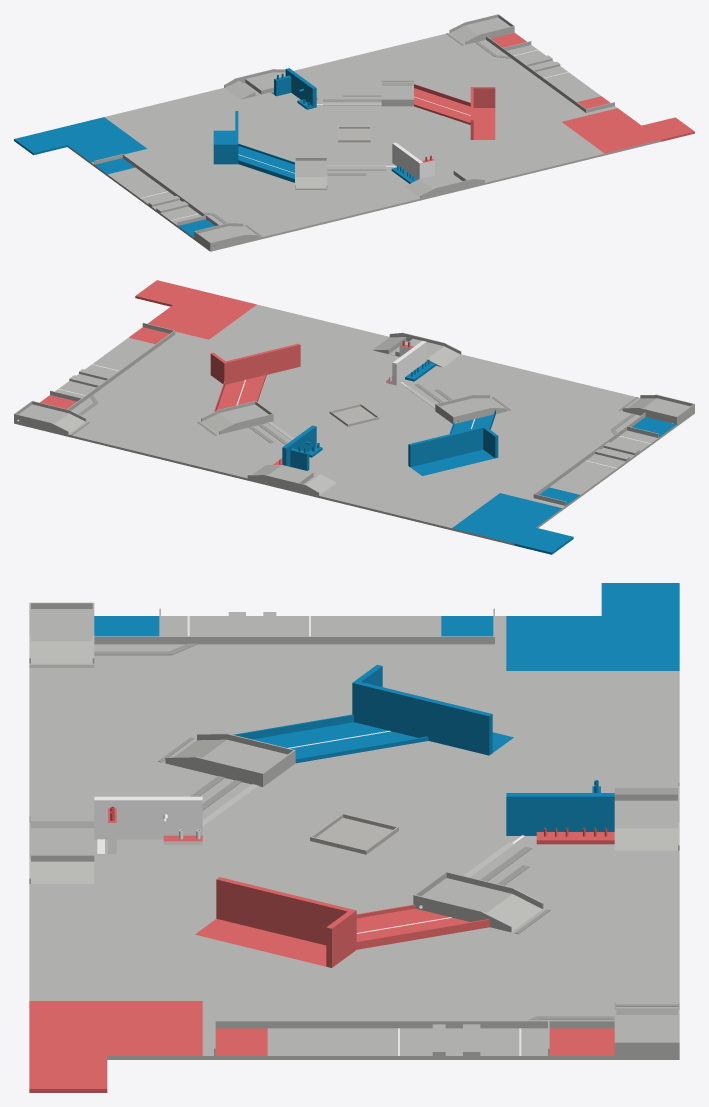
The model's file is CoRE2025_Field.dae.
3 renders of one model, top to bottom at view 1: azimuth 30°, elevation 25°; view 2: azimuth 150°, elevation 25°; view 3: azimuth 270°, elevation 25°, orthographic. The views are drawn at different scales.
Visible parts, largest first — view 1: Floor, blue_strider_area, red-strider-zone.001, Body1.053, Body1.052, Body1.009, Body1.029, Slope00, Body1.054, Body1.028, Body1.057, Slope01 (+8 smaller); view 2: Floor, blue_strider_area, red-strider-zone.001, Body1.008, Body1.052, Body1.053, Body1.009, Slope01, Body1.055, Body1.054, Body1.057, Body1.056 (+8 smaller); view 3: Floor, red-strider-zone.001, blue_strider_area, Body1.053, Body1.052, Body1.009, Body1.008, Body1.004, Body1.055, Body1.028, Body1.056, Body1.003 (+8 smaller).
Boxes of the visible parts, left/top/right/bottom form: Floor: left=67, top=33, right=661, bottom=251; blue_strider_area: left=94, top=154, right=219, bottom=237; red-strider-zone.001: left=486, top=32, right=614, bottom=112; Body1.053: left=562, top=108, right=660, bottom=153; Body1.052: left=48, top=117, right=146, bottom=162; Body1.009: left=470, top=87, right=495, bottom=139; Body1.029: left=414, top=84, right=470, bottom=124; Slope00: left=404, top=170, right=484, bottom=198; Body1.054: left=449, top=14, right=514, bottom=44; Body1.028: left=238, top=143, right=294, bottom=182; Body1.057: left=194, top=223, right=259, bottom=249; Slope01: left=224, top=69, right=285, bottom=99; Floor: left=14, top=304, right=694, bottom=545; blue_strider_area: left=533, top=413, right=676, bottom=505; red-strider-zone.001: left=40, top=323, right=175, bottom=410; Body1.008: left=408, top=425, right=498, bottom=475; Body1.052: left=452, top=493, right=561, bottom=543; Body1.053: left=147, top=289, right=256, bottom=339; Body1.009: left=210, top=343, right=300, bottom=384; Slope01: left=247, top=465, right=336, bottom=495; Body1.055: left=201, top=401, right=273, bottom=434; Body1.054: left=14, top=401, right=86, bottom=434; Body1.057: left=622, top=394, right=694, bottom=424; Body1.056: left=435, top=394, right=507, bottom=423; Floor: left=29, top=616, right=679, bottom=1059; red-strider-zone.001: left=214, top=1020, right=614, bottom=1055; blue_strider_area: left=94, top=608, right=494, bottom=644; Body1.053: left=29, top=1001, right=202, bottom=1055; Body1.052: left=506, top=616, right=679, bottom=670; Body1.009: left=195, top=877, right=356, bottom=967; Body1.008: left=352, top=664, right=513, bottom=755; Body1.004: left=94, top=796, right=202, bottom=854; Body1.055: left=413, top=871, right=543, bottom=932; Body1.028: left=233, top=714, right=428, bottom=763; Body1.056: left=165, top=733, right=295, bottom=786; Body1.003: left=506, top=786, right=614, bottom=835.
Size of the model in its own units: 27.6 by 15 by 1.1.
